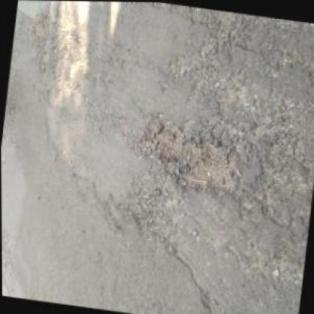Hueco: (133, 106, 248, 199), (127, 183, 173, 234)
